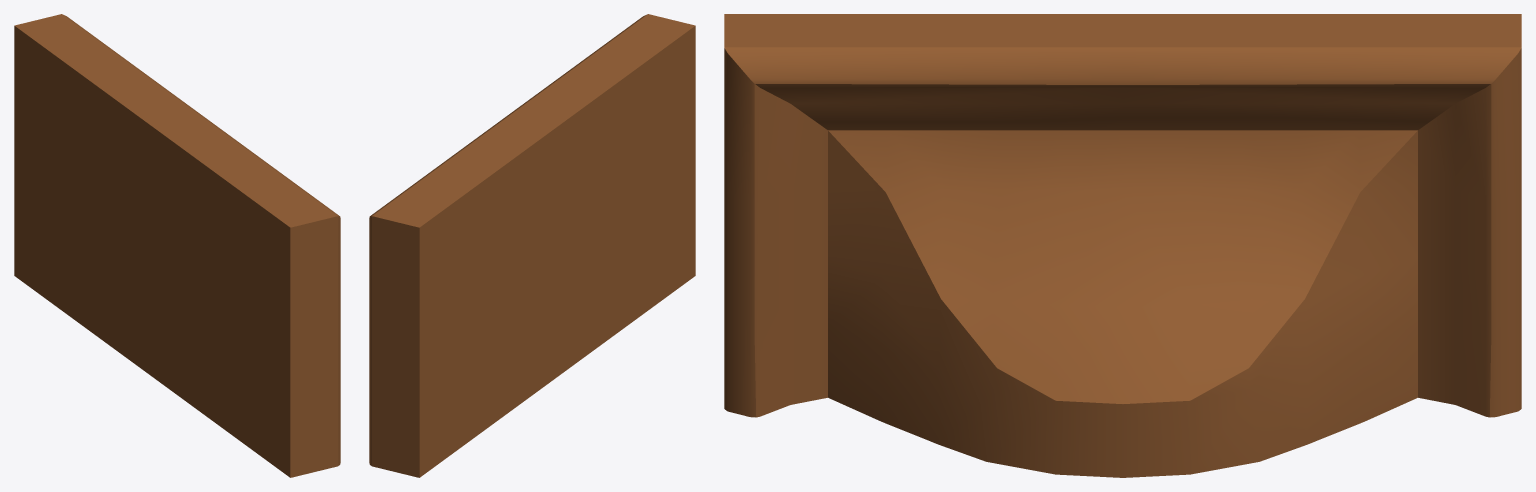
Rendered from CI_020_021_022_023_wall_deco_vert_1_join.glb.
3 views of the same model, side by side, from view 1: azimuth 30°, elevation 25°; view 2: azimuth 150°, elevation 25°; view 3: azimuth 270°, elevation 25° (orthographic). The views are drawn at different scales.
Visible parts, largest first — view 1: Plane; view 2: Plane; view 3: Plane.
Part boxes in pixels (x1,y1,x2,y2): Plane: (14,14,340,477); Plane: (369,14,695,477); Plane: (724,14,1521,477).
Size of the model in its own units: 0.2282 by 0.375 by 0.75.
